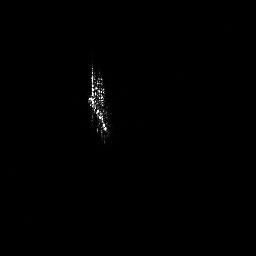ship: (86, 64, 111, 147)
